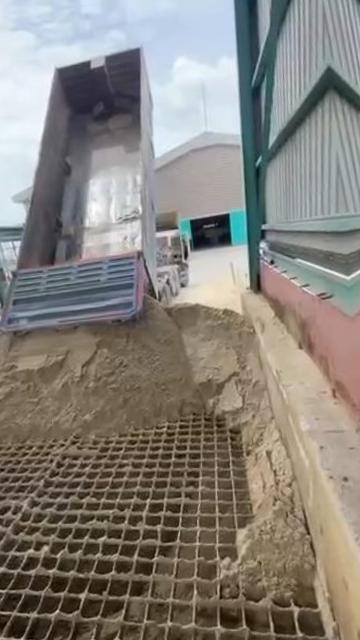sand: (0, 299, 314, 592)
